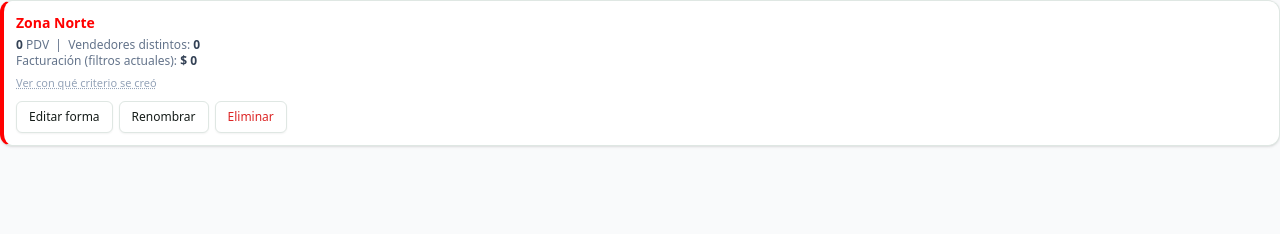
Test: ZoneItem › muestra los PDV excluidos a mano si el criterio tiene alguno
What coordinates should you click on to do the following:
click the button "Ver con qué criterio se creó"
I would click on:
 (86, 83)
Its box is [16, 75, 157, 92].
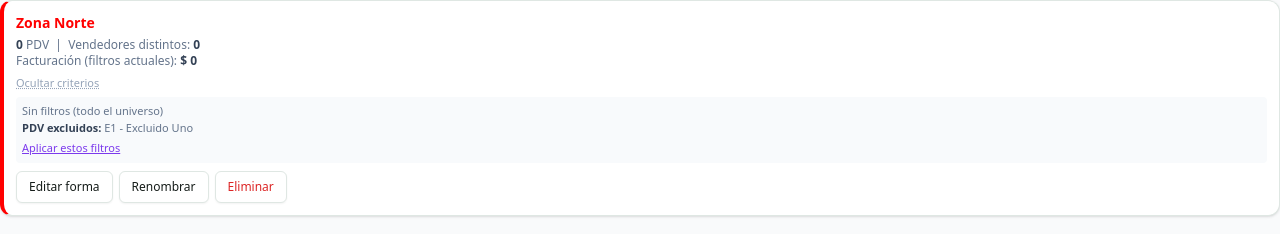
Check: the text "PDV excluidos:" is shown, box [22, 120, 104, 134]
Check: the text "E1 - Excluido Uno" is shown, box [104, 120, 193, 134]
